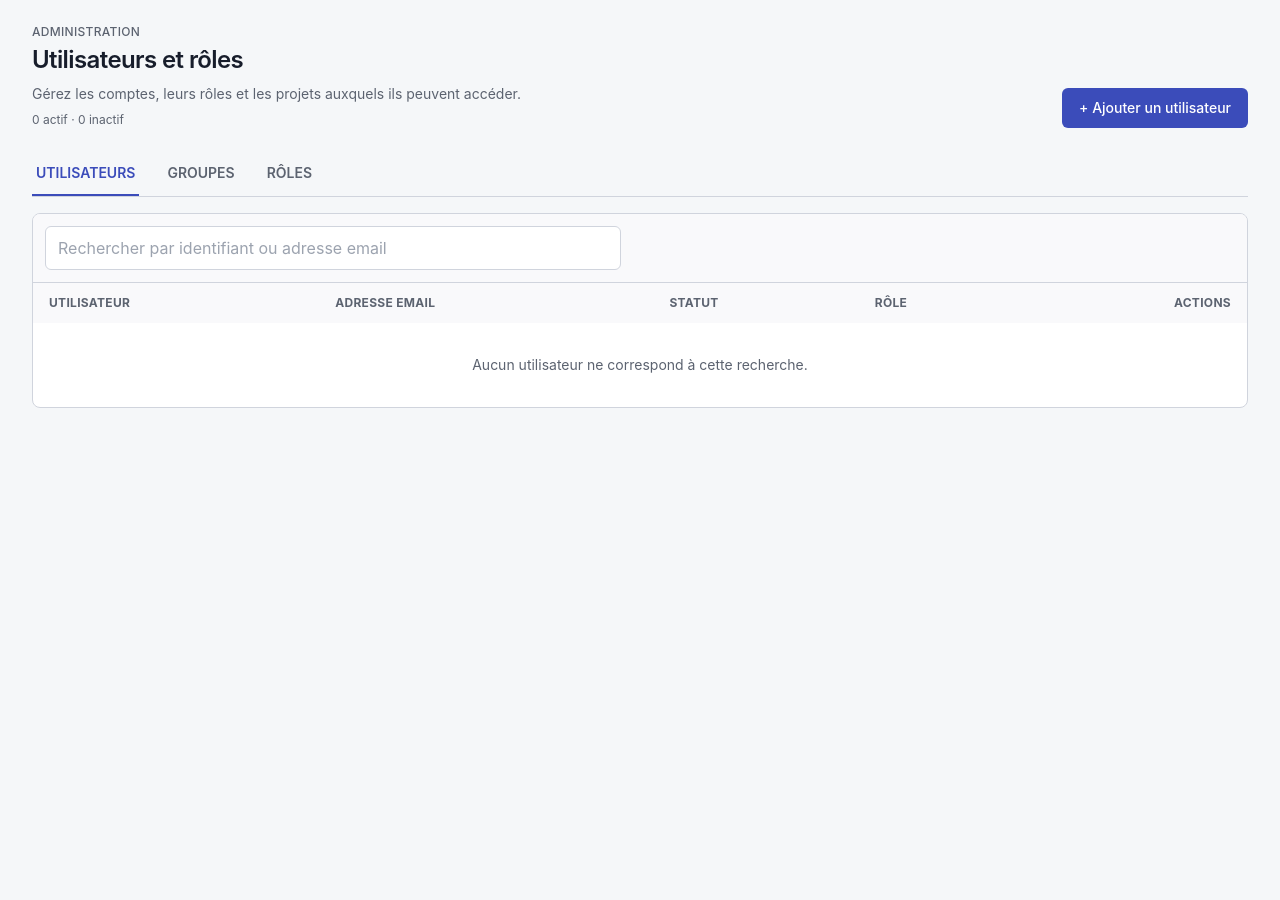
Test: Utilisateurs — mot de passe initial facultatif › le bouton de création n'exige plus un mot de passe saisi
The width and height of the screenshot is (1280, 900).
Step 1. Click the button "+ Ajouter un utilisateur" → click(1155, 108), box [1062,88,1248,128]
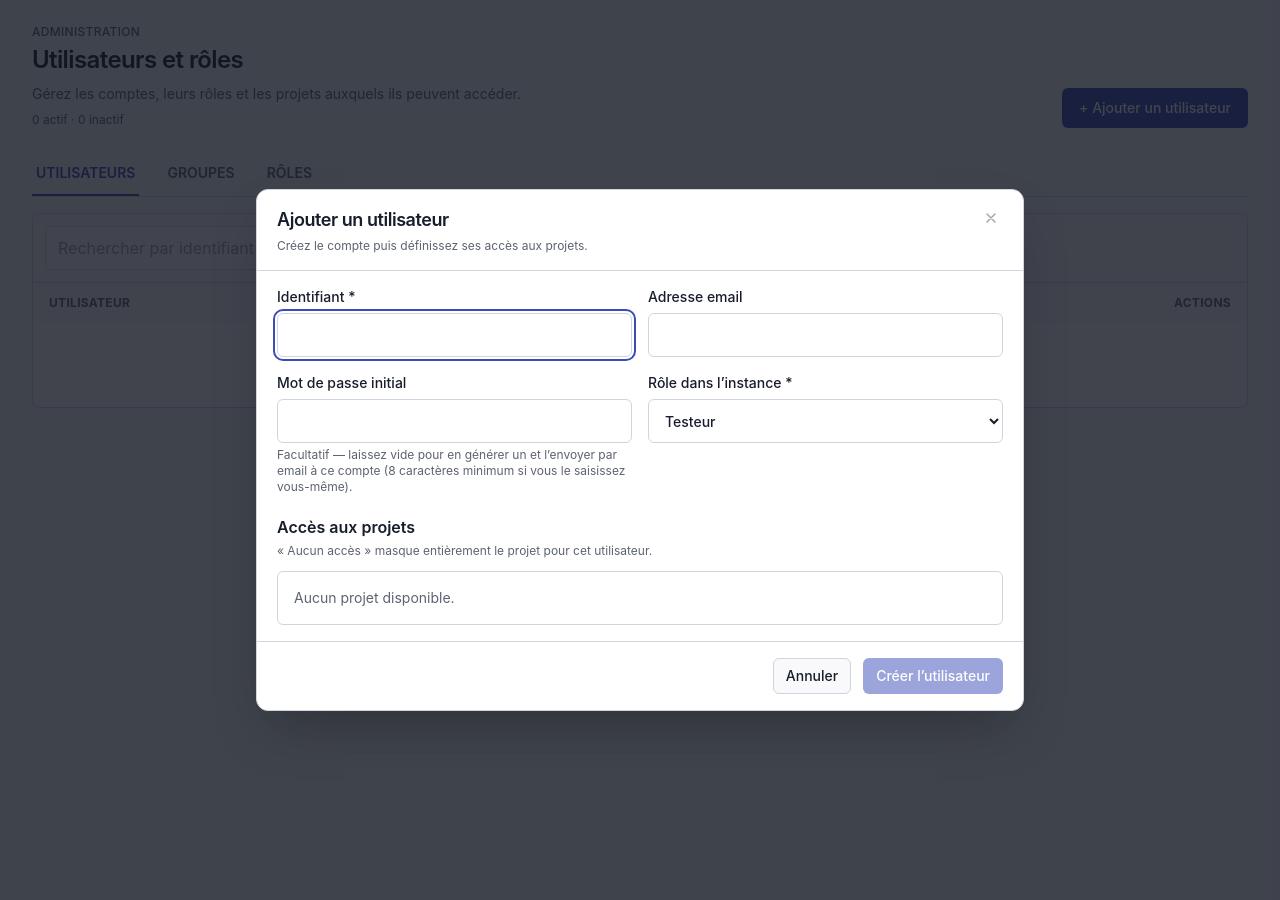
Step 2. Type "leo" into the field named "username" → (454, 335), box [277,313,632,357]
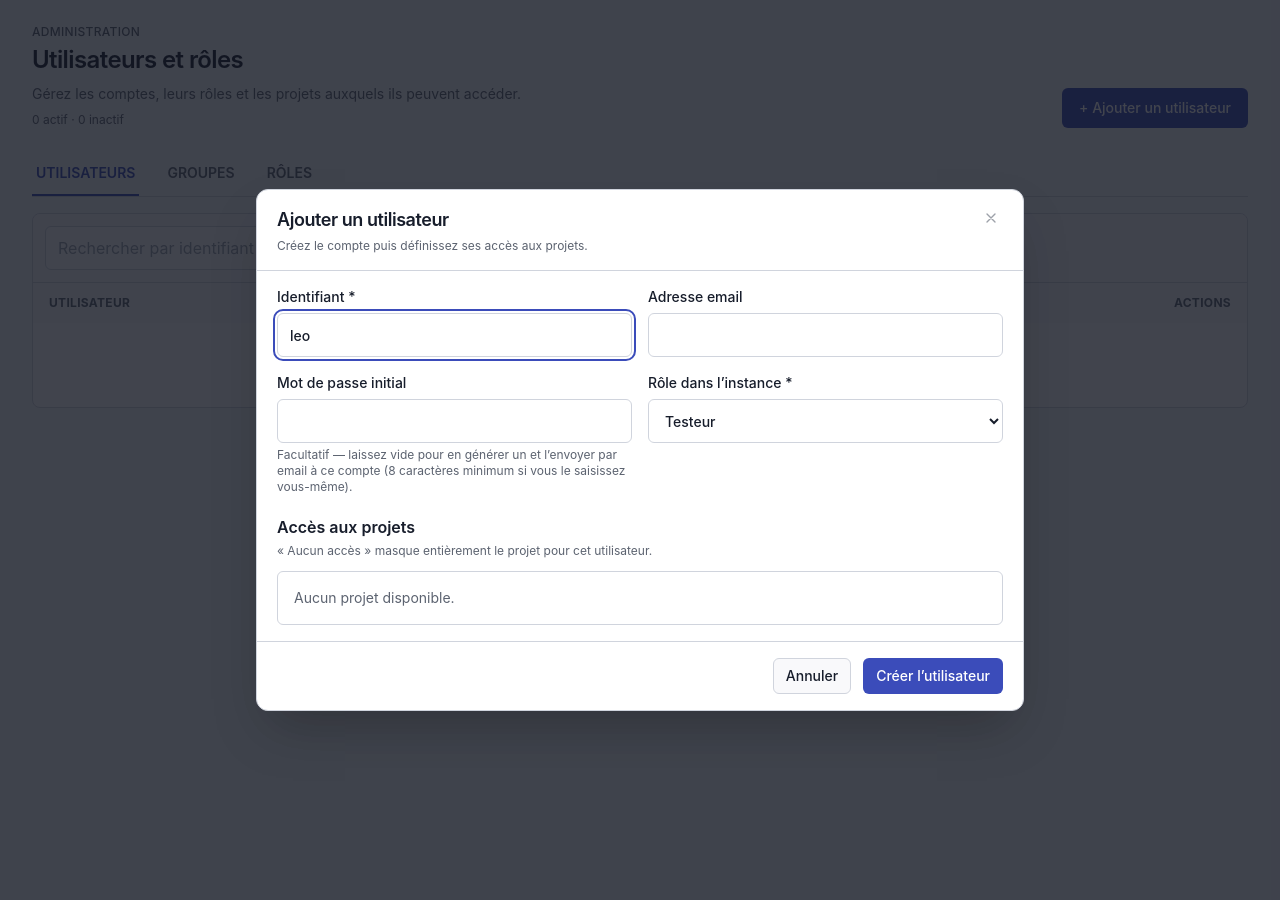
Expected: the button "Créer l’utilisateur" is enabled, [863,658,1003,694]
